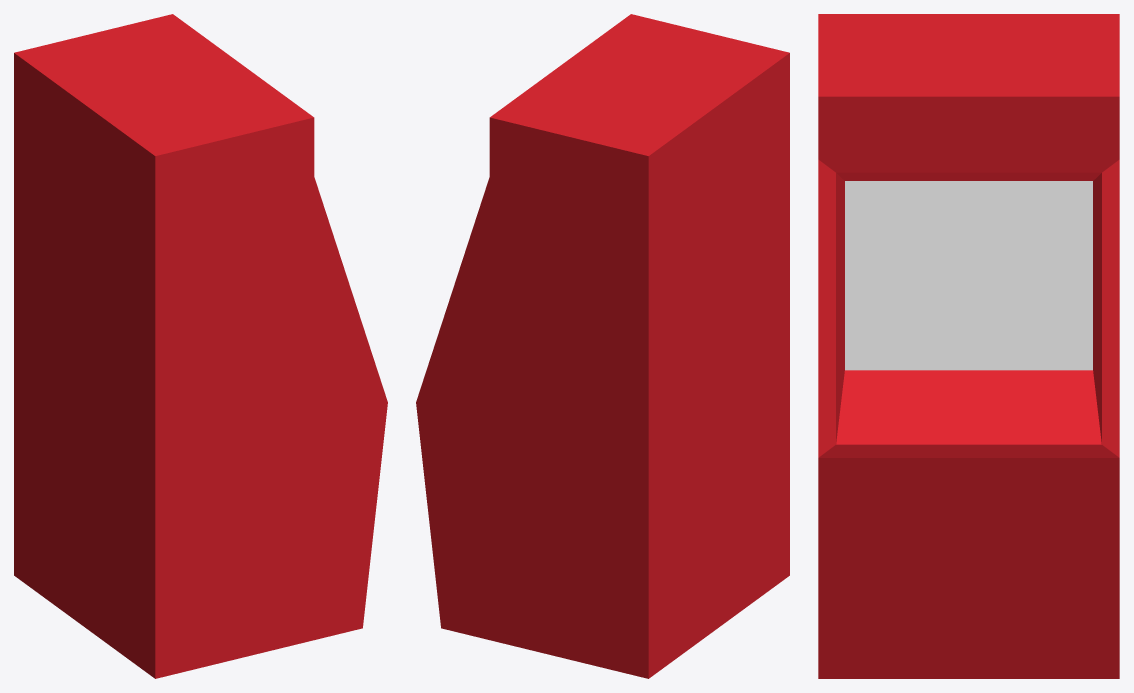
The model's file is arcade.glb.
3 renders of one model, left to right at view 1: azimuth 30°, elevation 25°; view 2: azimuth 150°, elevation 25°; view 3: azimuth 270°, elevation 25°, orthographic. The views are drawn at different scales.
Parts seen in each view (by area): view 1: Cube; view 2: Cube; view 3: Cube.
Boxes of the visible parts, <box> form: Cube: <box>14,14,387,678</box>; Cube: <box>416,14,789,678</box>; Cube: <box>818,14,1119,678</box>.
Size of the model in its own units: 1.9 by 4.08 by 2.
